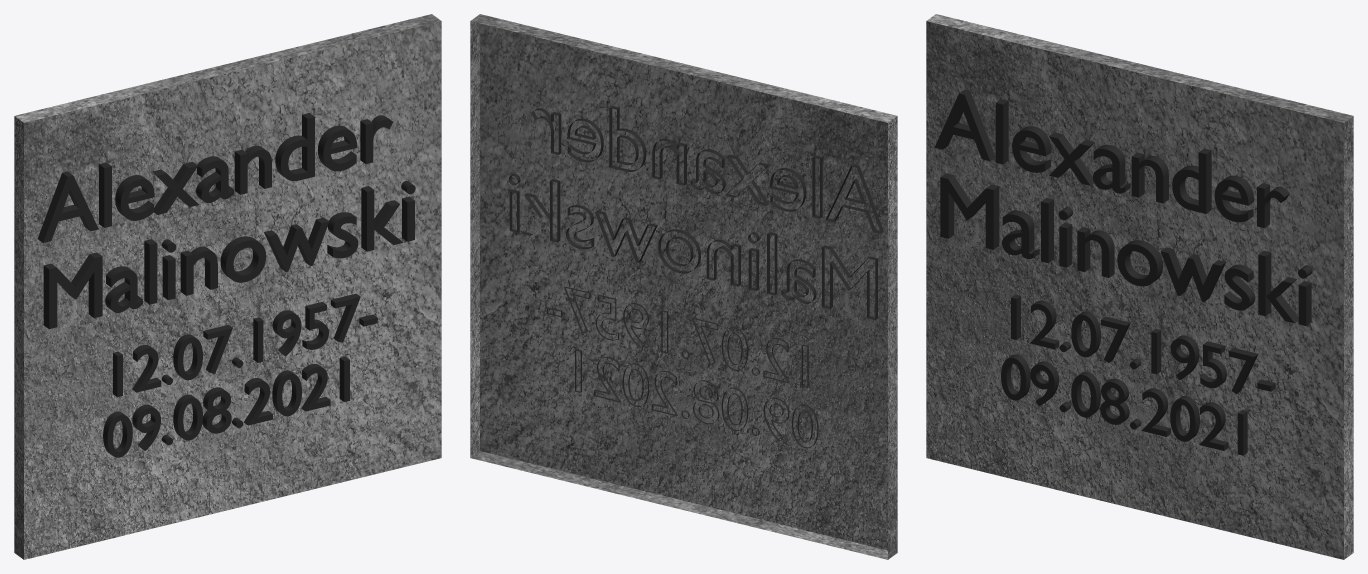
File: malinowski.gltf
The picture shows the model from 3 angles, left to right: view 1: azimuth 30°, elevation 25°; view 2: azimuth 150°, elevation 25°; view 3: azimuth 330°, elevation 25°; orthographic projection.
Parts seen in each view (by area): view 1: Text; view 2: Text; view 3: Text.
Boxes of the visible parts, x1,y1,x2,y2 form: Text: (14,14,441,559); Text: (470,14,897,559); Text: (926,14,1353,559).
Bounding box in the file's own units: 2 × 2 × 0.1259.
Materials: 2 (1 with a texture image).
